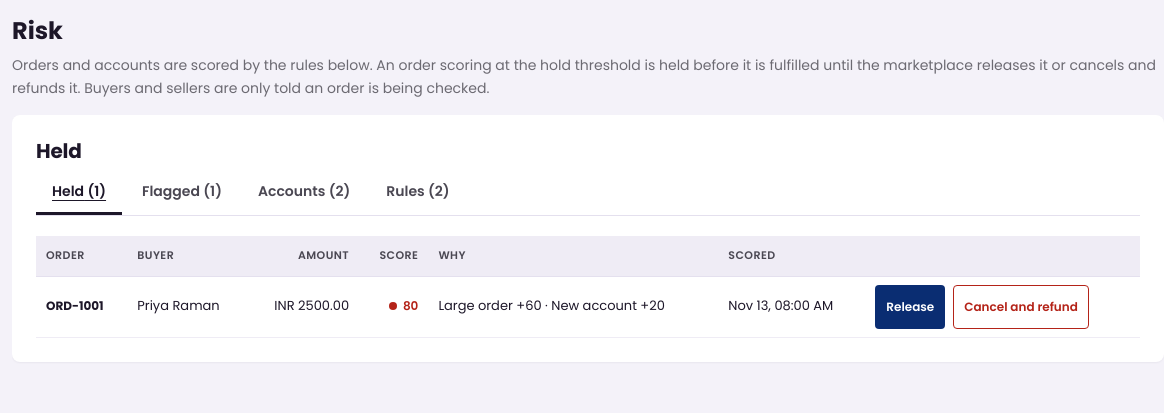
it: OperatorRisk › keeps a decided hold visible with its decision, who, when and the note
Step 1. Click the tab "Flagged (1)" → [182, 193], box [126,171,238,215]
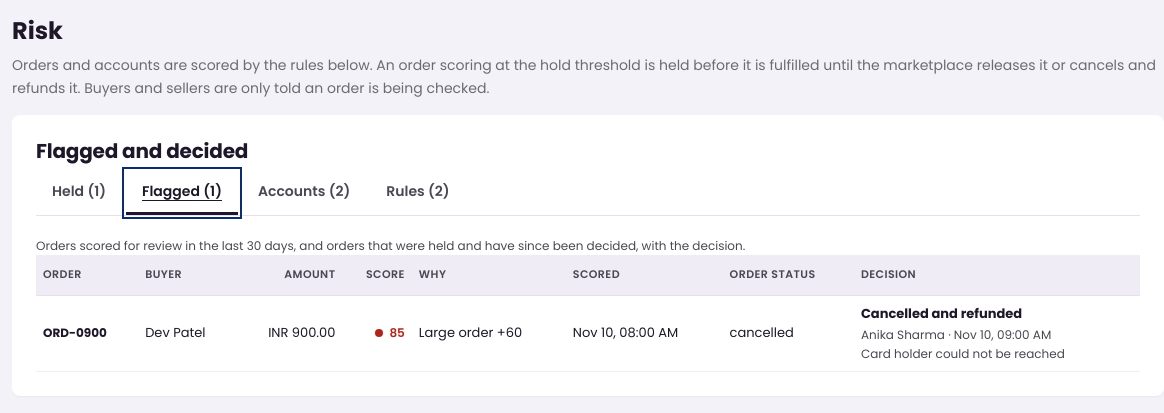
Now the text "Cancelled and refunded" is shown, box [861,304,1022,323]
Now the text "Anika Sharma · Nov 10, 09:00 AM" is shown, box [861,326,1051,343]
Now the text "Card holder could not be reached" is shown, box [861,345,1065,362]
